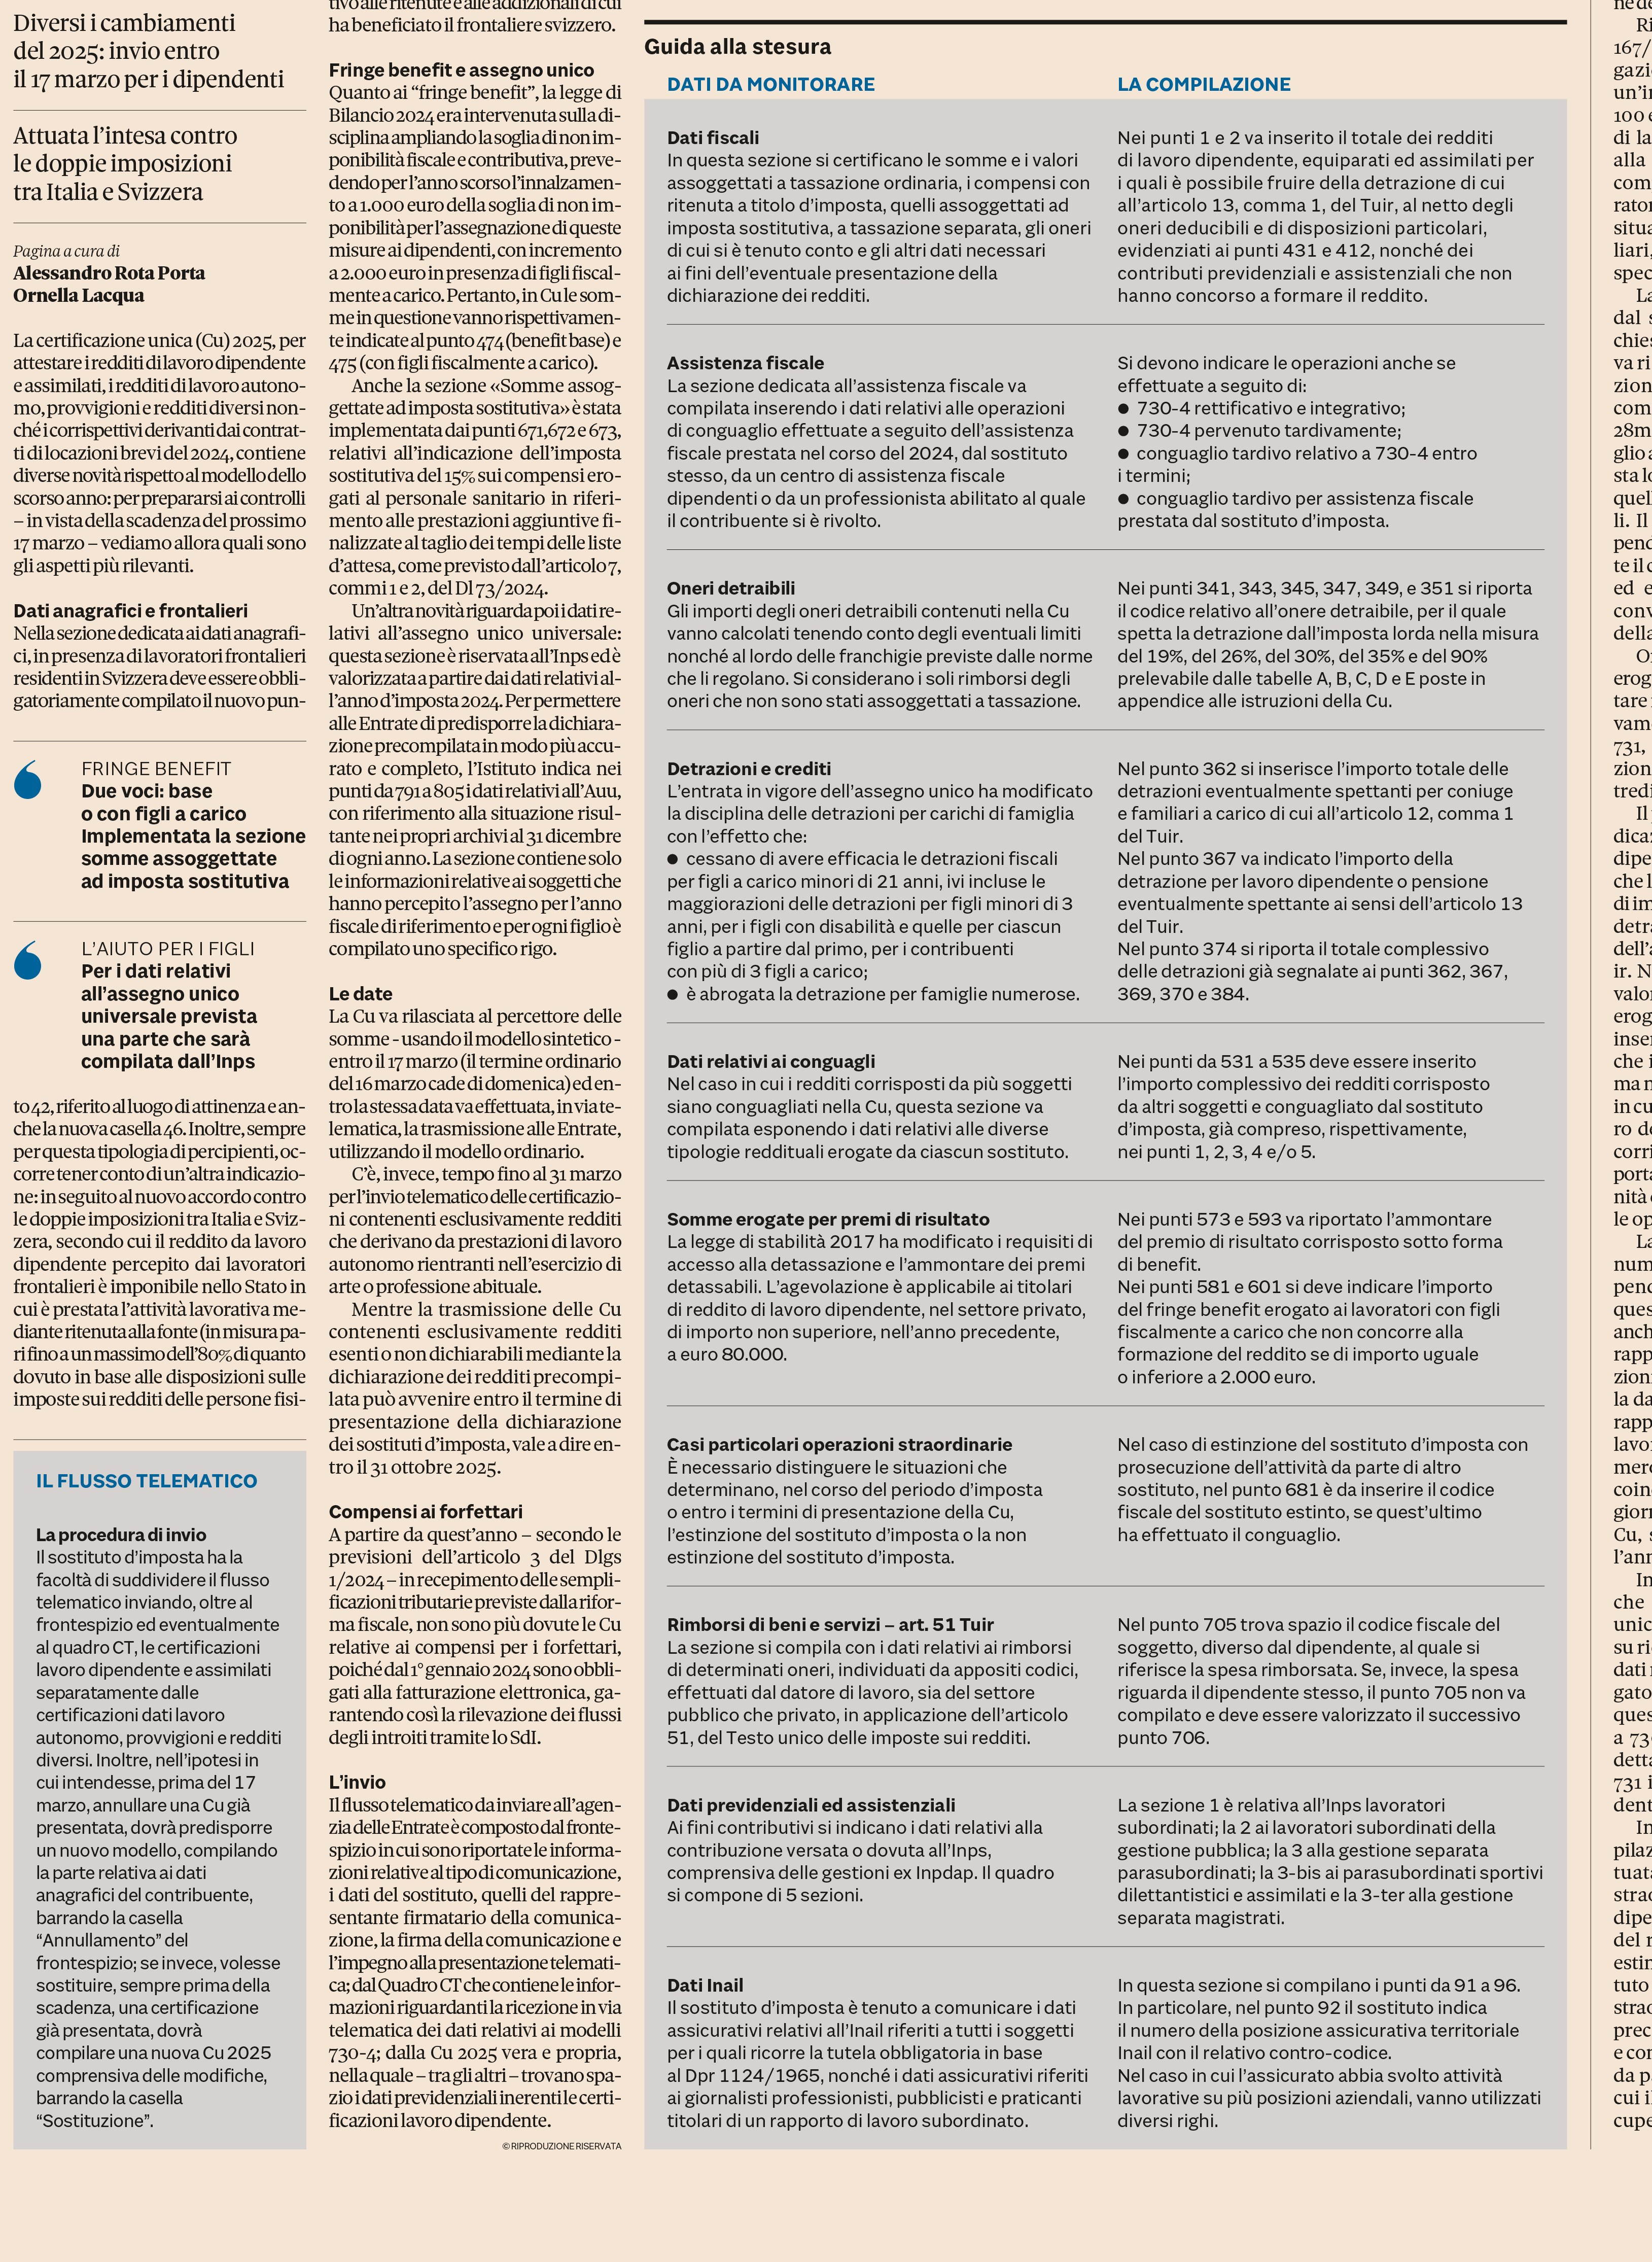scheda-testo-3: (651, 715, 1561, 1020), (653, 1161, 1568, 1400), (650, 311, 1561, 546), (651, 1923, 1559, 2146), (650, 109, 1561, 325), (650, 1380, 1562, 1577), (650, 534, 1561, 729), (653, 1747, 1559, 1937), (653, 1567, 1559, 1754), (653, 1006, 1564, 1173)
